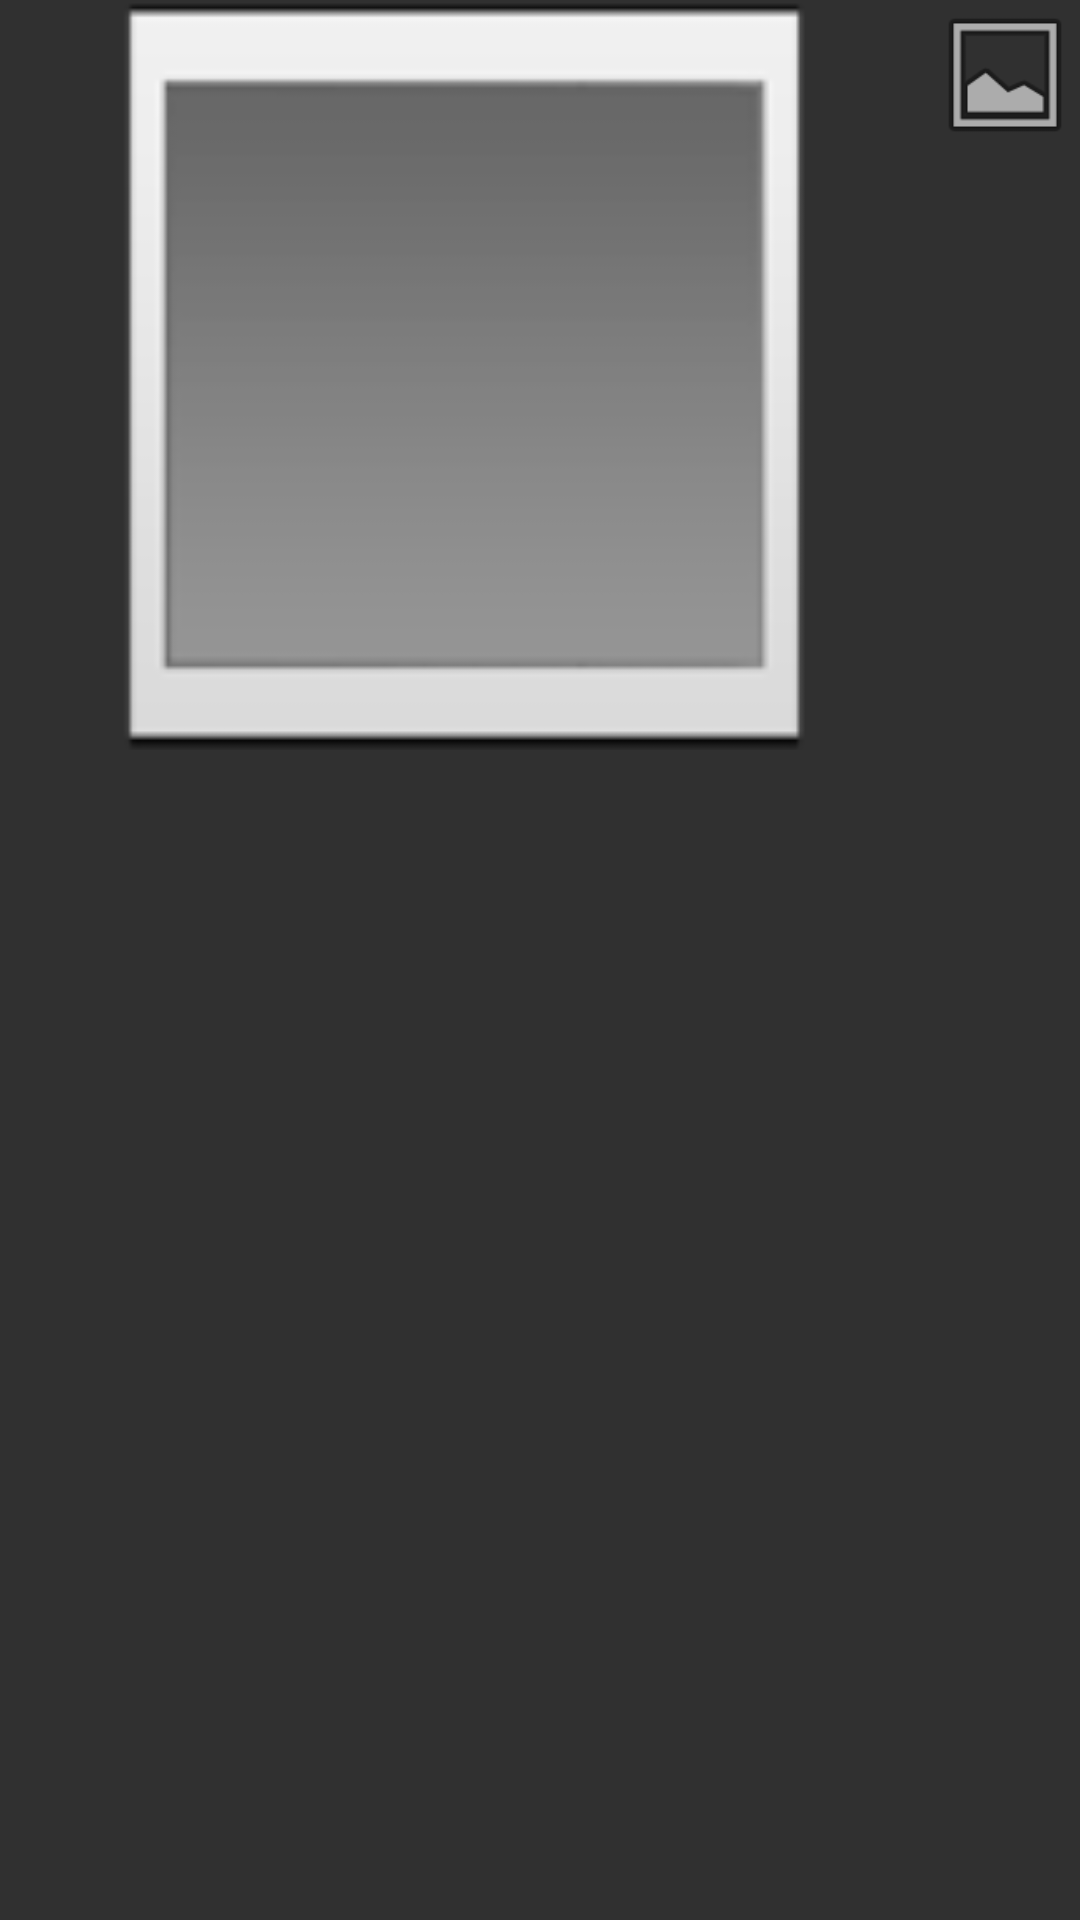

Point at icon controls on the screen. Image size 1080 x 1920, points as (x=x, y=y).
gallery: (x=1005, y=75)
